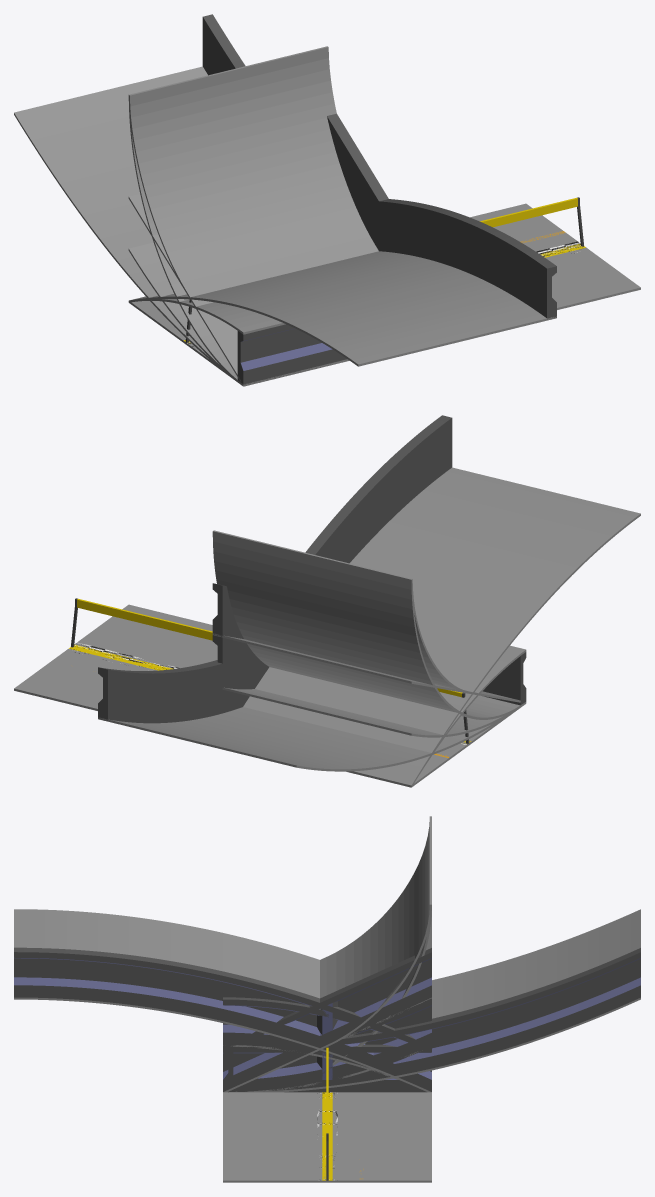
The model's file is planes.glb.
3 views of the same model, one above another, from view 1: azimuth 30°, elevation 25°; view 2: azimuth 150°, elevation 25°; view 3: azimuth 270°, elevation 25° (orthographic). The views are drawn at different scales.
Parts seen in each view (by area): view 1: PlaneSlopeToVertical, PlaneSlopeDownLong, PlaneSlopeUpLong, PlaneWallSlopeDownLong, PlaneCheckpointWide, PlaneWall, PlaneFinishWide, PlaneWallSlope, PlaneSlopeVertical, PlaneWallSlopeDown, PlaneStartWide, PlaneSlopeUp (+4 smaller); view 2: PlaneSlopeDownLong, PlaneSlopeVertical, PlaneCheckpointWide, PlaneSlopeUpLong, PlaneWallSlopeDownLong, PlaneWallSlopeUpLong, PlaneFinishWide, PlaneSlopeUp, PlaneStartWide, PlaneWallSlopeUp, PlaneSlope, PlaneWall (+4 smaller); view 3: PlaneCheckpointWide, PlaneWallSlopeDownLong, PlaneSlopeDownLong, PlaneWallSlopeUpLong, PlaneSlopeUpLong, PlaneFinishWide, PlaneSlopeToVertical, PlaneWallSlope, PlaneWallSlopeUp, PlaneWallCorner, PlaneWallSlopeDown, PlaneStartWide.
Boxes of the visible parts, bbox=[...] form: PlaneSlopeToVertical: bbox=[129, 46, 378, 385]; PlaneSlopeDownLong: bbox=[128, 251, 556, 366]; PlaneSlopeUpLong: bbox=[14, 66, 300, 386]; PlaneWallSlopeDownLong: bbox=[362, 199, 556, 319]; PlaneCheckpointWide: bbox=[134, 197, 640, 384]; PlaneWall: bbox=[237, 324, 348, 385]; PlaneFinishWide: bbox=[138, 204, 640, 356]; PlaneWallSlope: bbox=[327, 113, 406, 254]; PlaneSlopeVertical: bbox=[128, 95, 238, 380]; PlaneWallSlopeDown: bbox=[355, 203, 432, 260]; PlaneStartWide: bbox=[147, 205, 639, 309]; PlaneSlopeUp: bbox=[128, 242, 222, 368]; PlaneSlopeDownLong: bbox=[243, 467, 640, 786]; PlaneSlopeVertical: bbox=[212, 531, 522, 719]; PlaneCheckpointWide: bbox=[14, 598, 487, 787]; PlaneSlopeUpLong: bbox=[98, 702, 526, 771]; PlaneWallSlopeDownLong: bbox=[234, 415, 452, 680]; PlaneWallSlopeUpLong: bbox=[98, 655, 264, 723]; PlaneFinishWide: bbox=[15, 605, 419, 784]; PlaneSlopeUp: bbox=[222, 687, 505, 737]; PlaneStartWide: bbox=[14, 605, 448, 783]; PlaneWallSlopeUp: bbox=[212, 635, 260, 687]; PlaneSlope: bbox=[212, 633, 520, 702]; PlaneWall: bbox=[483, 652, 526, 705]; PlaneCheckpointWide: bbox=[223, 1047, 431, 1182]; PlaneWallSlopeDownLong: bbox=[14, 947, 431, 1091]; PlaneSlopeDownLong: bbox=[14, 909, 431, 1092]; PlaneWallSlopeUpLong: bbox=[223, 948, 640, 1092]; PlaneSlopeUpLong: bbox=[232, 909, 640, 1092]; PlaneFinishWide: bbox=[223, 1092, 431, 1182]; PlaneSlopeToVertical: bbox=[223, 816, 431, 1092]; PlaneWallSlope: bbox=[223, 948, 431, 1091]; PlaneWallSlopeUp: bbox=[223, 999, 431, 1091]; PlaneWallCorner: bbox=[223, 1044, 431, 1092]; PlaneWallSlopeDown: bbox=[223, 997, 415, 1080]; PlaneStartWide: bbox=[223, 1092, 431, 1182].
Size of the model in its own units: 40 by 20 by 60.
